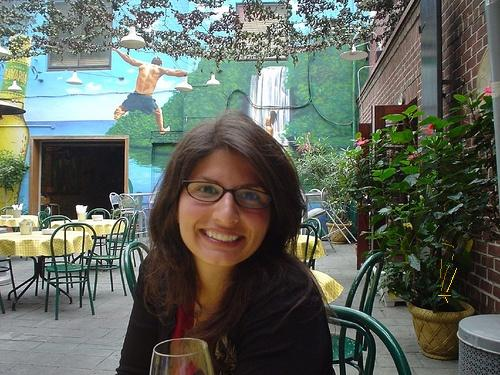tampered: (439, 244, 458, 303)
